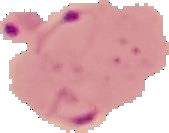parasitized: (1, 7, 128, 128), (44, 84, 107, 131), (1, 7, 47, 40)
